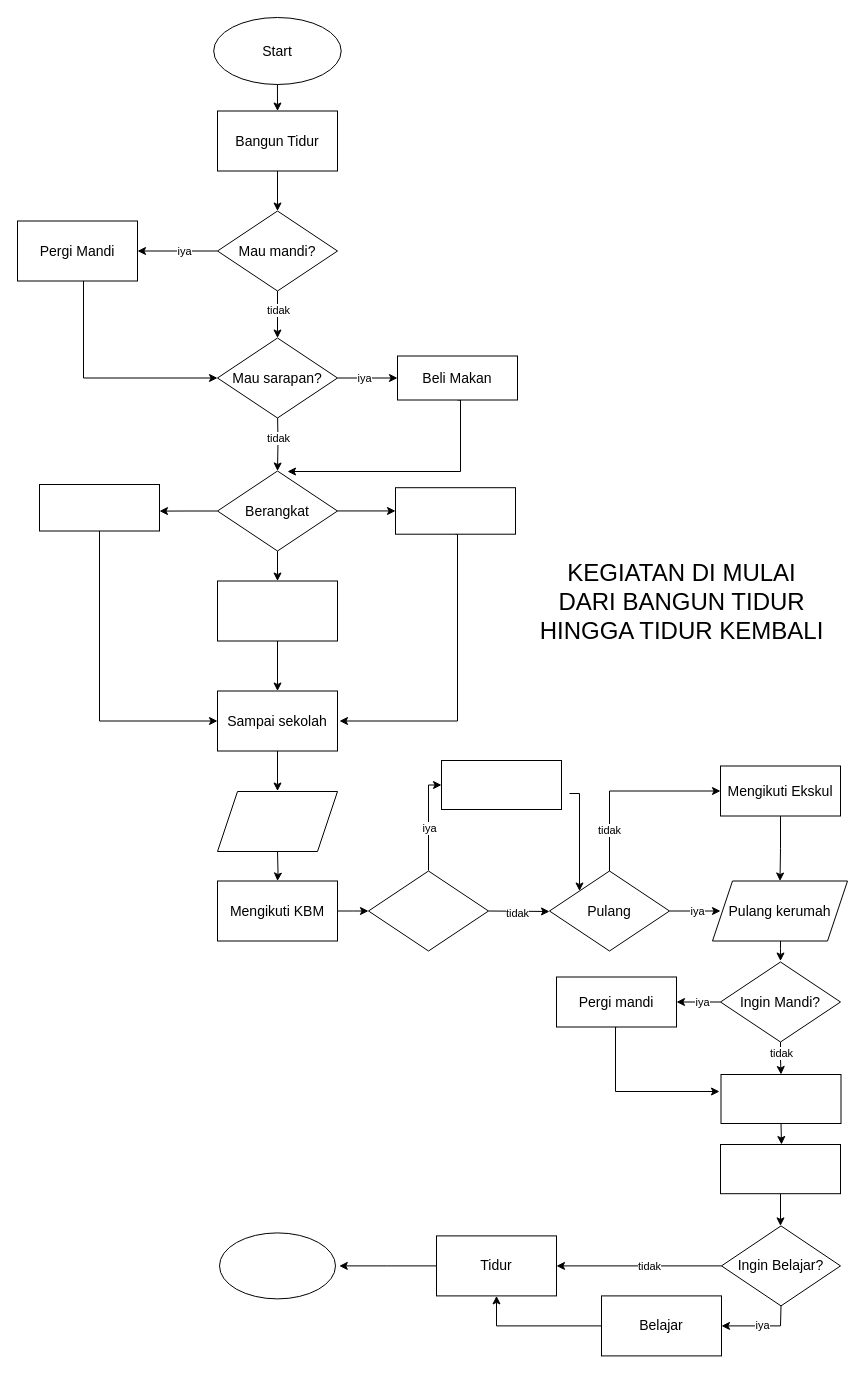
This 865x1374 diagram has some shape labels left out. Here are the shapes that lost their labels. From the top down, the centre of each, then its label:
At (99,507): "Naik angkot".
At (455,510): "Naik Ojek".
At (277,610): "Di antar Ortu".
At (501,785): "Masuk kembali".
At (277,821): "Masuk Kelas".
At (428,910): "Masih Ada pelajaran?".
At (780,1099): "Bersih-bersih rumah".
At (780,1169): "Makan".
At (277,1265): "Stop".
